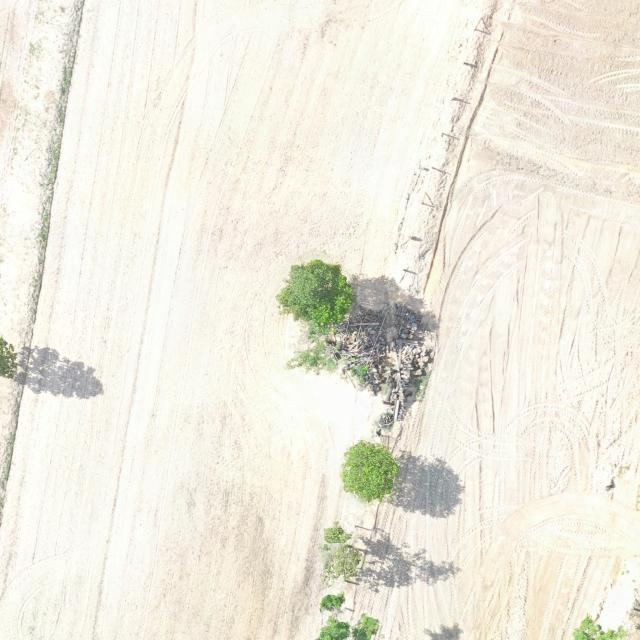Tree: (272, 256, 356, 337), (339, 441, 399, 502), (316, 593, 381, 640), (315, 524, 364, 584)
